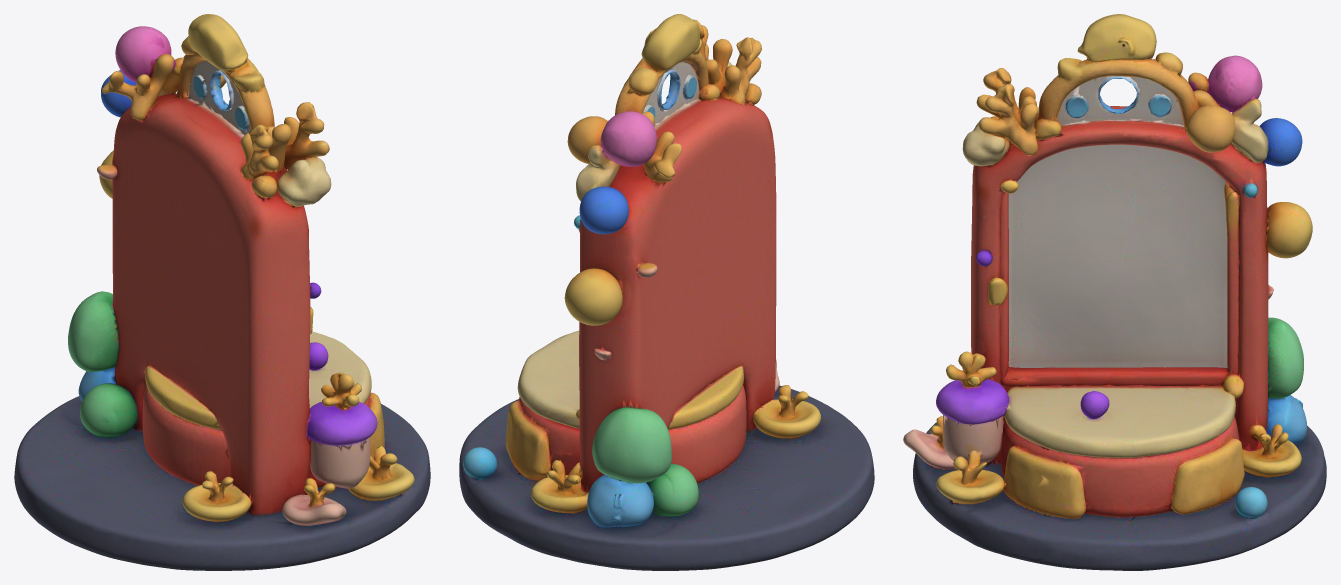
The model's file is env_nest_deco_02.glb.
The picture shows the model from 3 angles, left to right: view 1: azimuth 30°, elevation 25°; view 2: azimuth 150°, elevation 25°; view 3: azimuth 270°, elevation 25°; orthographic projection.
Parts seen in each view (by area): view 1: tripo_node_7ec872ac-aab6-4520-8d1b-577f712b87d0; view 2: tripo_node_7ec872ac-aab6-4520-8d1b-577f712b87d0; view 3: tripo_node_7ec872ac-aab6-4520-8d1b-577f712b87d0.
Boxes of the visible parts, x1,y1,x2,y2 form: tripo_node_7ec872ac-aab6-4520-8d1b-577f712b87d0: [14, 14, 430, 570]; tripo_node_7ec872ac-aab6-4520-8d1b-577f712b87d0: [459, 14, 874, 570]; tripo_node_7ec872ac-aab6-4520-8d1b-577f712b87d0: [903, 14, 1326, 570].
Bounding box in the file's own units: 0.9624 × 1.2 × 0.9846.
1 material, 1 textured.
